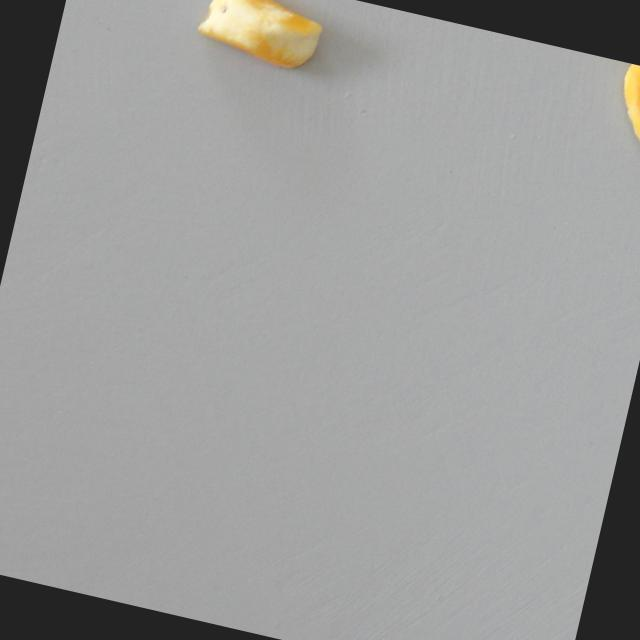punto_negro: (185, 0, 334, 77), (605, 62, 640, 156)
